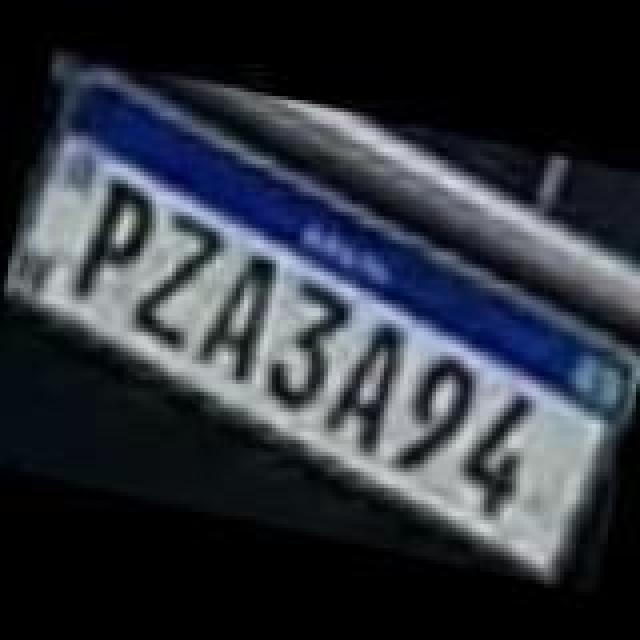3: (252, 270, 348, 418)
4: (452, 376, 540, 524)
9: (378, 340, 478, 484)
A: (318, 308, 406, 456), (188, 236, 276, 380)
P: (66, 168, 162, 312)
Z: (120, 198, 228, 350)
